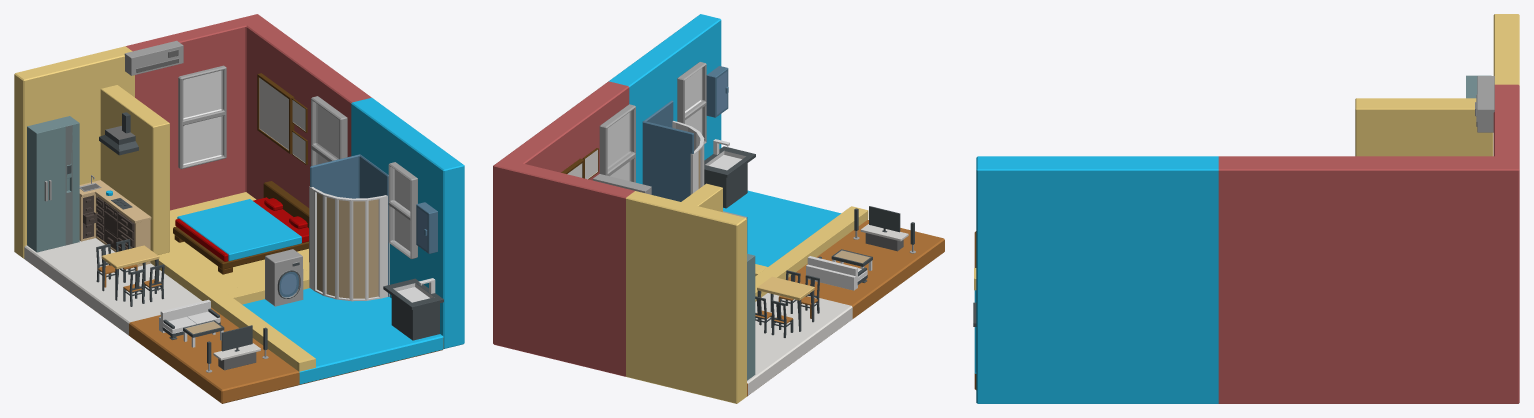
File: uploads_files_3671622_House.fbx
The picture shows the model from 3 angles, left to right: view 1: azimuth 30°, elevation 25°; view 2: azimuth 150°, elevation 25°; view 3: azimuth 270°, elevation 25°; orthographic projection. The views are drawn at different scales.
Visible parts, largest first — view 1: Cube.001, Cube, Cube.012, Plane.015, Plane.010, Cube.007, Plane.021, Cube.002, Cube.006, Cube.011, Plane.024, Cube.010 (+18 smaller); view 2: Cube.001, Cube, Cube.011, Cube.002, Cube.005, Plane.024, Cube.010, Plane.009, Plane.004, Plane.010, Plane.023, Cube.012 (+7 smaller); view 3: Cube.001, Plane.015, Cube.008.
Boxes of the visible parts, <box> form: Cube.001: <box>14,14,464,348</box>; Cube: <box>24,192,443,403</box>; Cube.012: <box>309,186,389,301</box>; Plane.015: <box>100,85,169,254</box>; Plane.010: <box>27,116,79,252</box>; Cube.007: <box>178,65,226,169</box>; Plane.021: <box>177,199,301,261</box>; Cube.002: <box>150,252,315,371</box>; Cube.006: <box>257,73,307,164</box>; Cube.011: <box>310,154,388,296</box>; Plane.024: <box>383,278,443,340</box>; Cube.010: <box>388,162,417,259</box>; Cube.001: <box>493,14,746,403</box>; Cube: <box>723,190,944,396</box>; Cube.011: <box>642,100,693,201</box>; Cube.002: <box>755,206,868,301</box>; Cube.005: <box>599,104,635,182</box>; Plane.024: <box>704,139,755,208</box>; Cube.010: <box>677,62,706,143</box>; Plane.009: <box>755,270,819,337</box>; Plane.004: <box>806,256,867,290</box>; Plane.010: <box>747,253,755,380</box>; Plane.023: <box>706,66,728,117</box>; Cube.012: <box>672,121,704,194</box>; Cube.001: <box>976,14,1519,403</box>; Plane.015: <box>1355,98,1493,156</box>; Cube.008: <box>1475,76,1494,132</box>.
Size of what is drawn, in the model's own units: 2852 by 2024 by 4213.
